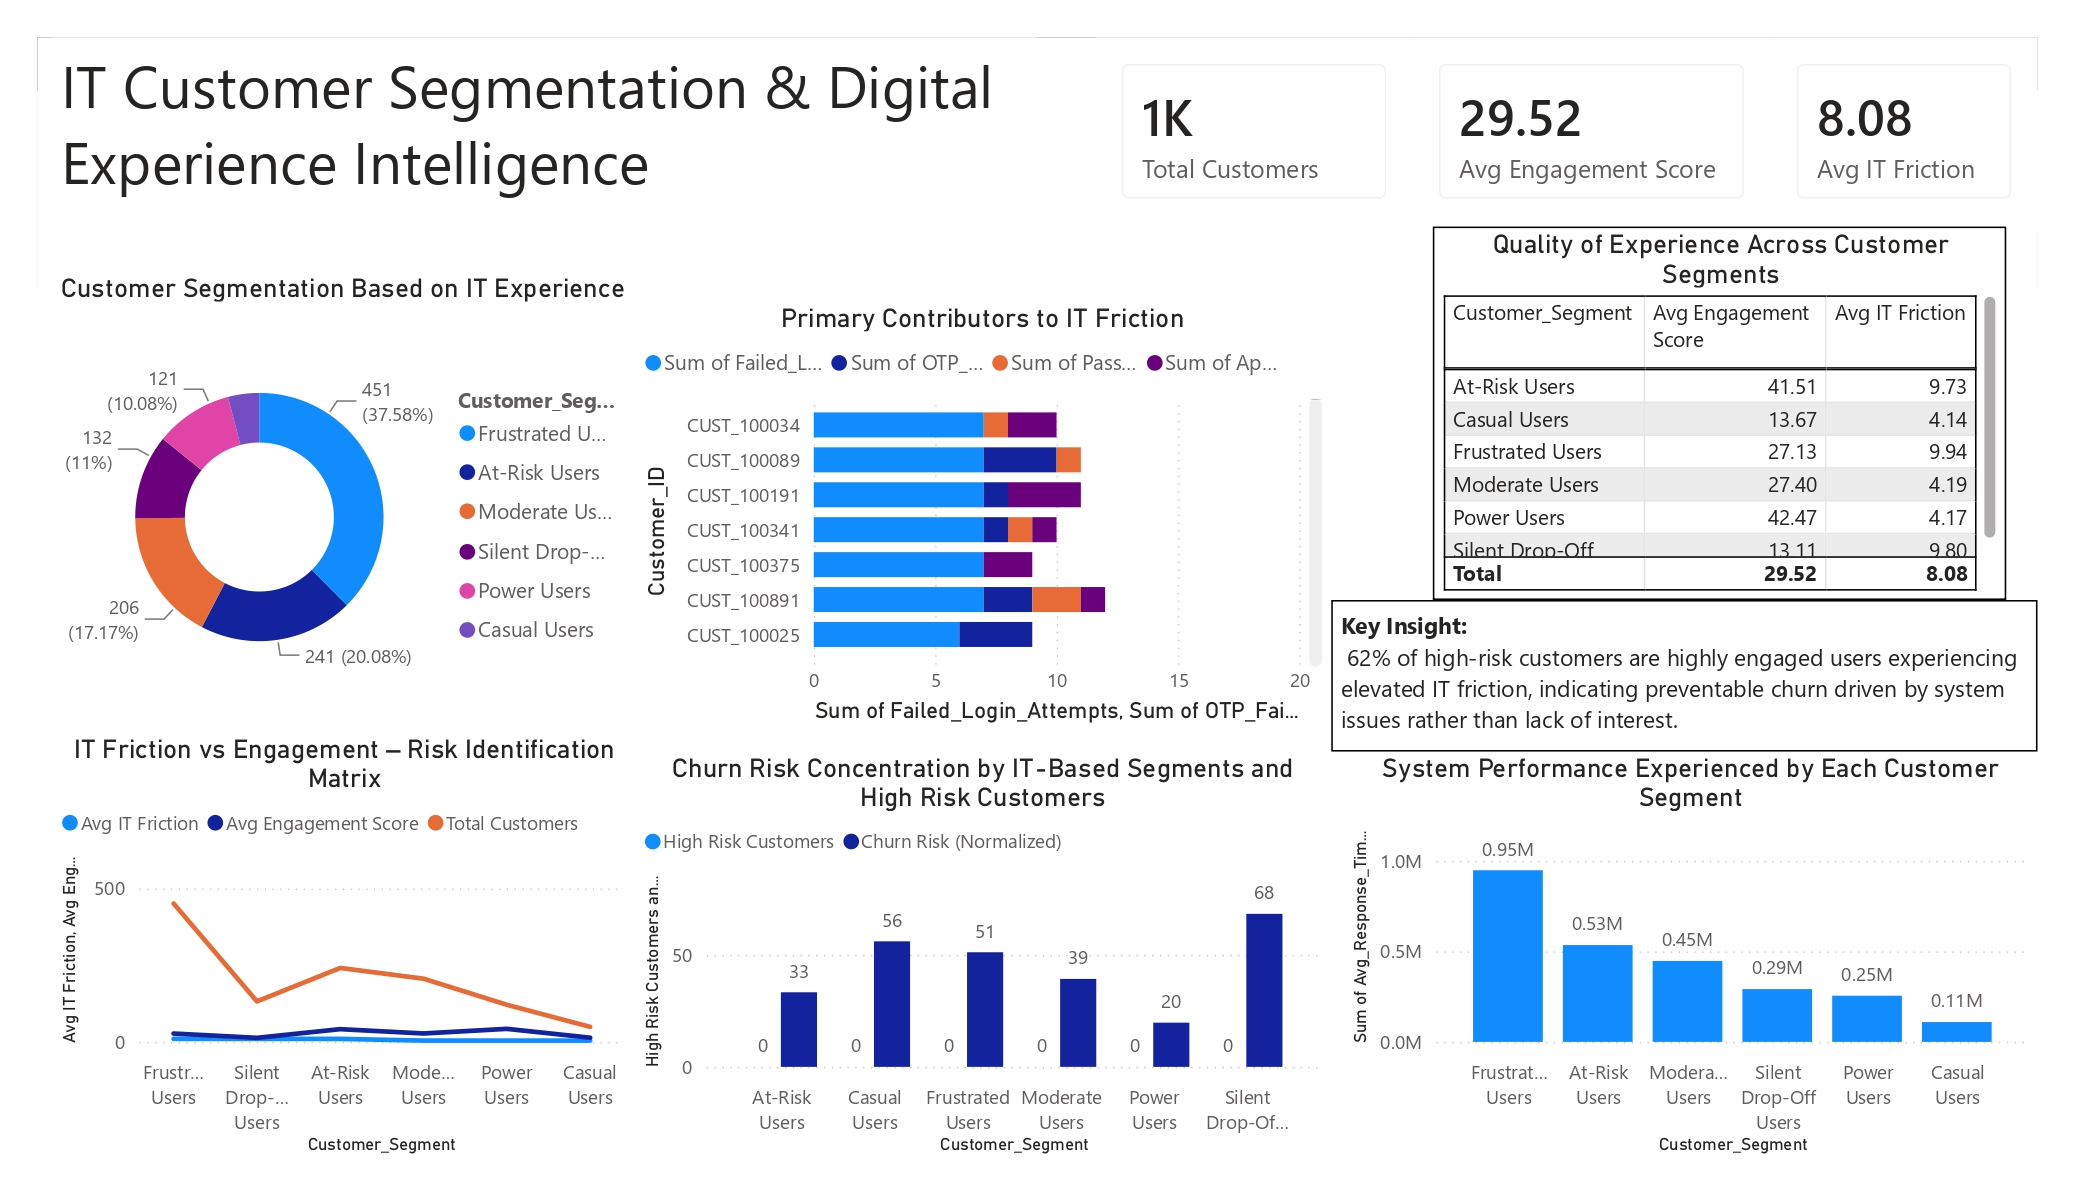

What the dashboard file says about the page in this screenshot:
{"tool":"powerbi","page":{"name":"Page 1","canvas":[1280,720],"ordinal":0},"visuals":[{"type":"textbox","box":[9.6,0,629.8,120.8],"z":0},{"type":"cardVisual","fields":{"Data":["Sheet1.Total Customers"]},"box":[676.5,0,203.1,120.8],"z":1},{"type":"cardVisual","fields":{"Data":["Sheet1.Avg Engagement Score"]},"box":[879.6,0,229.2,120.8],"z":2},{"type":"cardVisual","fields":{"Data":["Sheet1.Avg IT Friction"]},"box":[1108.8,0,171.5,120.8],"z":3},{"type":"donutChart","title":"Customer Segmentation Based on IT Experience","fields":{"Category":["Sheet1.Customer_Segment"],"Y":["Sheet1.Total Customers"]},"box":[9.6,149.6,373.2,295],"z":4},{"type":"tableEx","title":"Quality of Experience Across Customer Segments","fields":{"Values":["Sheet1.Customer_Segment","Sheet1.Avg Engagement Score","Sheet1.Avg IT Friction"]},"box":[892.7,121.1,366.8,238.5],"z":5},{"type":"lineChart","title":"IT Friction vs Engagement – Risk Identification Matrix","fields":{"Y":["Sheet1.Avg IT Friction","Sheet1.Avg Engagement Score","Sheet1.Total Customers"],"Category":["Sheet1.Customer_Segment"]},"box":[9.6,444.6,373.2,275.8],"z":6},{"type":"clusteredColumnChart","title":"Churn Risk Concentration by IT-Based Segments and High Risk Customers","fields":{"Category":["Sheet1.Customer_Segment"],"Y":["Sheet1.High Risk Customers","Sheet1.Churn Risk (Normalized)"]},"box":[382.8,456.9,444.6,263.5],"z":7},{"type":"barChart","title":"Primary Contributors to IT Friction","fields":{"Y":["Sum(Sheet1.Failed_Login_Attempts)","Sum(Sheet1.OTP_Failures)","Sum(Sheet1.Password_Resets)","Sum(Sheet1.App_Crashes)"],"Category":["Sheet1.Customer_ID"]},"box":[382.8,168.8,444.6,275.8],"z":8},{"type":"clusteredColumnChart","title":"System Performance Experienced by Each Customer Segment","fields":{"Category":["Sheet1.Customer_Segment"],"Y":["Sum(Sheet1.Avg_Response_Time_ms)"]},"box":[836,457,444,263],"z":9},{"type":"textbox","box":[827.9,359.5,452.4,97.8],"z":10}]}

Visuals, with their boxes on the page's 1280x720 design canvas (x1, y1, x2, y2). These are canvas units, not pixel positions in the 2075x1200 screenshot, which may show the page scaled, cropped or inside an application window:
textbox: l=10, t=0, r=639, b=121
cardVisual - Sheet1.Total Customers: l=676, t=0, r=880, b=121
cardVisual - Sheet1.Avg Engagement Score: l=880, t=0, r=1109, b=121
cardVisual - Sheet1.Avg IT Friction: l=1109, t=0, r=1280, b=121
"Customer Segmentation Based on IT Experience" donutChart: l=10, t=150, r=383, b=445
"Quality of Experience Across Customer Segments" tableEx: l=893, t=121, r=1260, b=360
"IT Friction vs Engagement – Risk Identification Matrix" lineChart: l=10, t=445, r=383, b=720
"Churn Risk Concentration by IT-Based Segments and High Risk Customers" clusteredColumnChart: l=383, t=457, r=827, b=720
"Primary Contributors to IT Friction" barChart: l=383, t=169, r=827, b=445
"System Performance Experienced by Each Customer Segment" clusteredColumnChart: l=836, t=457, r=1280, b=720
textbox: l=828, t=360, r=1280, b=457
